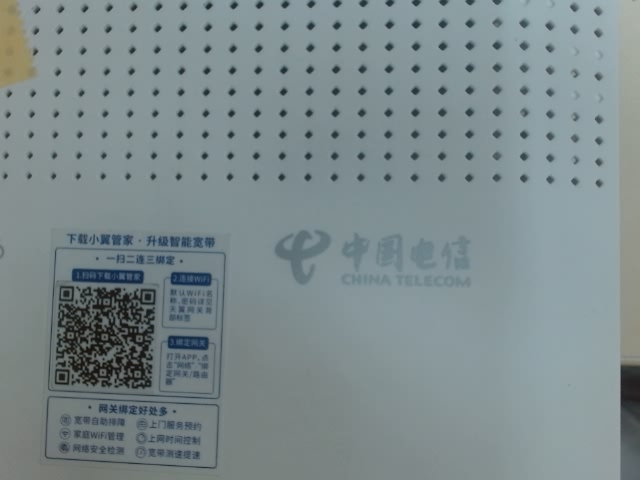AB_ChinaTelecom: (258, 204, 483, 299)
